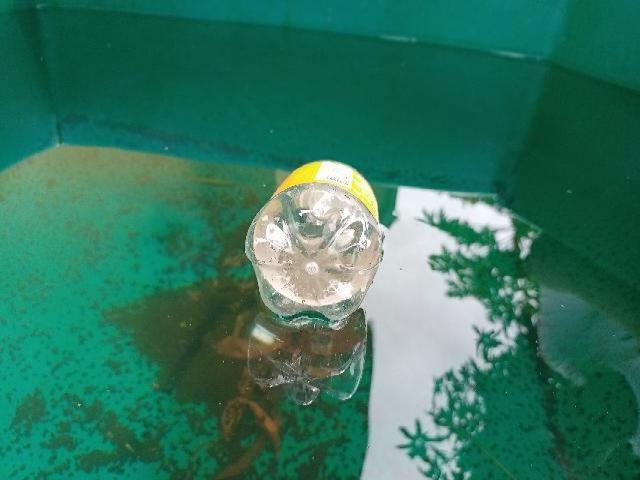Bottle: (232, 152, 394, 334)
